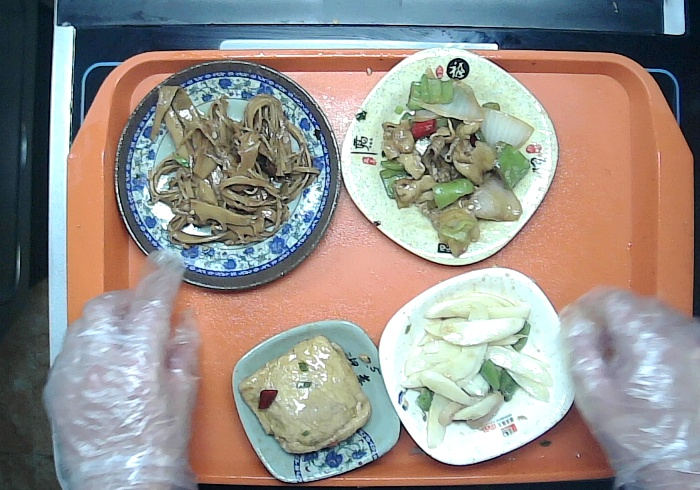NLDX-Bai_Se_Xiao_Fang_Die: (382, 262, 592, 470)
NLDX-Fu_Zi_Fang_Die: (340, 43, 561, 258)
NLDX-Qing_Hua_Xiao_Fang_Die: (232, 319, 412, 476)
NLDX-Qing_Hua_Yuan_Die: (115, 64, 351, 299)
